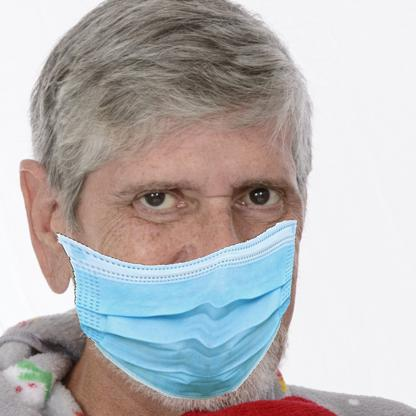mask: (53, 219, 302, 400)
